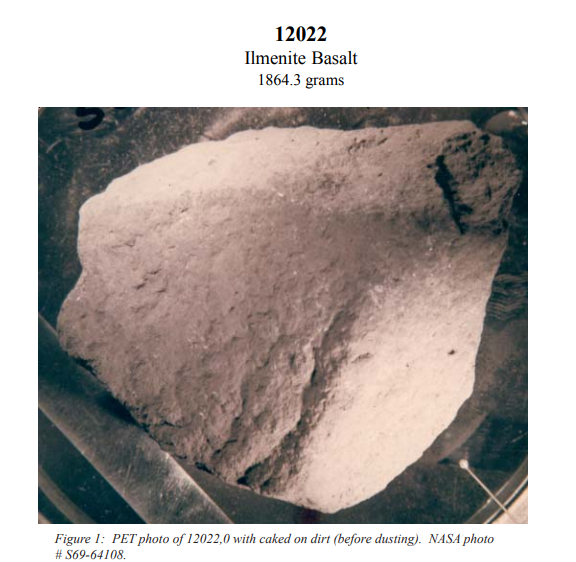Basalt: (80, 121, 514, 499), (230, 204, 457, 438)
